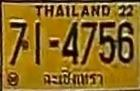1: (35, 22, 40, 63)
4: (61, 22, 77, 64)
5: (98, 21, 115, 63)
6: (117, 21, 133, 62)
7: (9, 20, 27, 64), (80, 21, 97, 64)
CCO: (42, 68, 105, 87)
